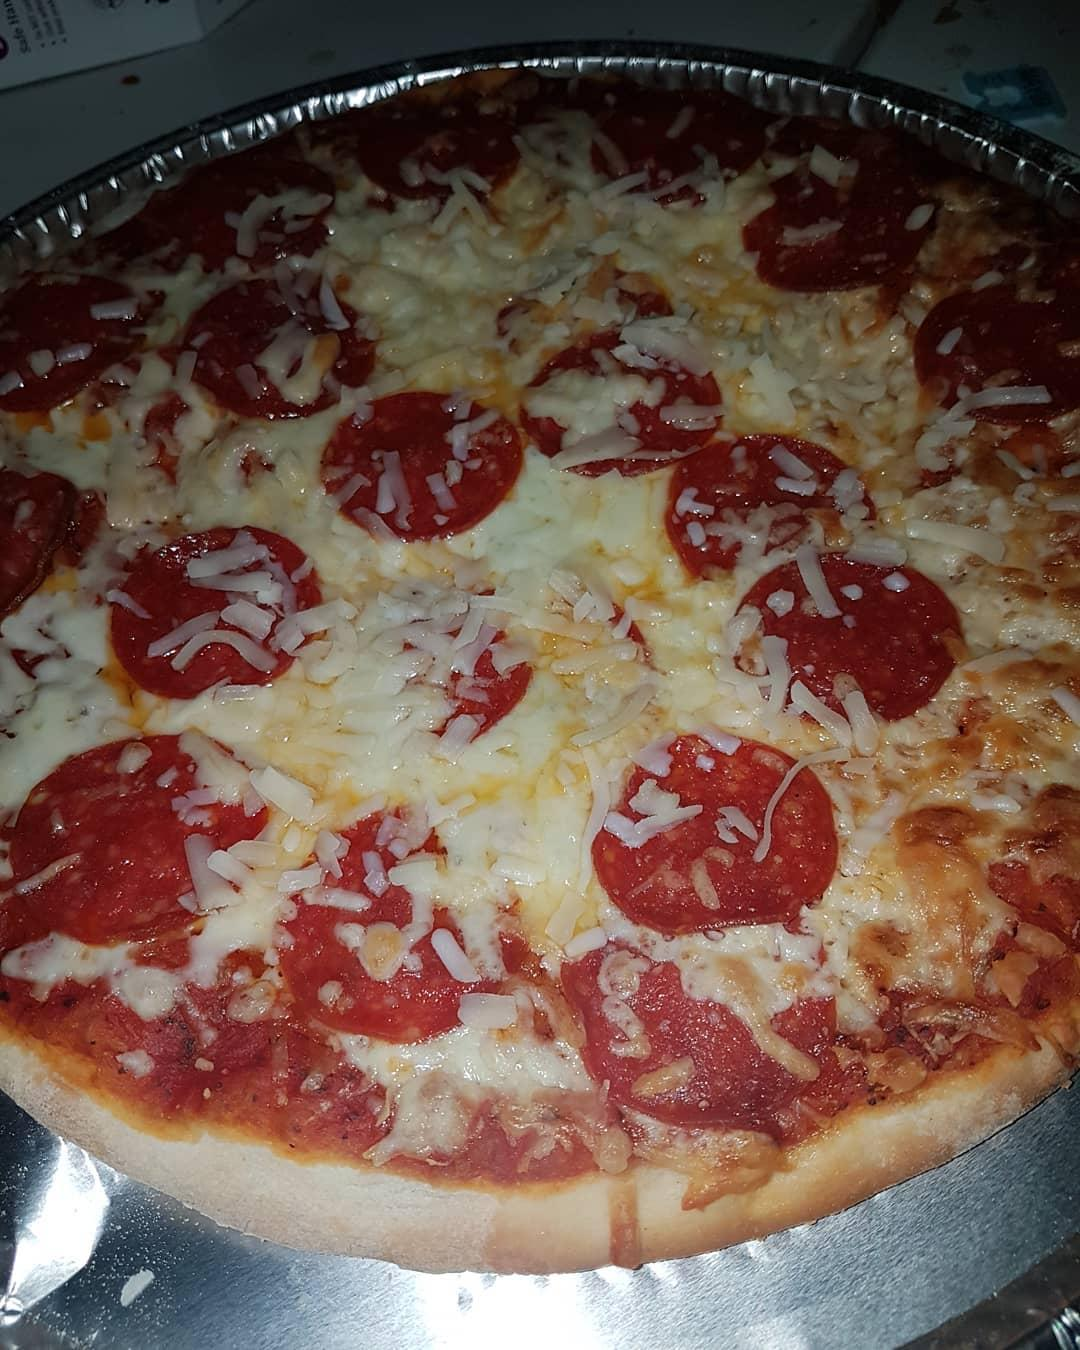Cheese: (506, 496, 701, 705), (383, 218, 695, 321), (221, 686, 423, 798), (441, 751, 591, 893)
Pepperoni: (13, 728, 306, 956), (276, 801, 516, 1043), (588, 728, 843, 935), (563, 938, 850, 1115), (726, 556, 966, 720), (111, 526, 328, 681), (178, 266, 383, 421), (653, 433, 883, 571), (321, 381, 520, 531), (523, 326, 726, 471), (396, 568, 545, 748), (912, 288, 1080, 433), (736, 178, 936, 294), (156, 148, 340, 259), (361, 91, 520, 203), (11, 261, 131, 406), (591, 86, 758, 179), (488, 268, 673, 339), (6, 466, 76, 611)
Pizza: (1, 56, 1080, 1270)
